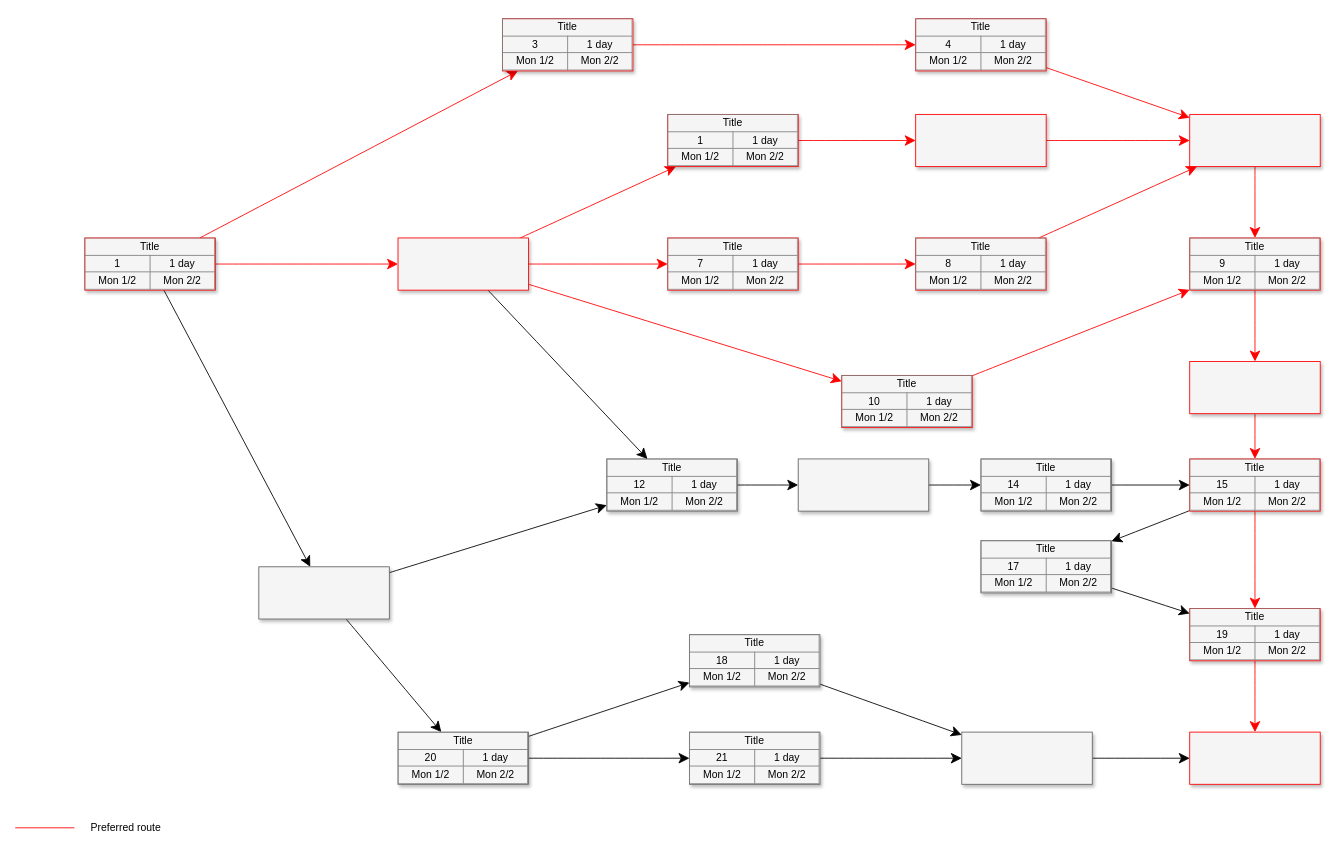
This 1341x858 diagram has some shape labels left out. Each missing label, with the centre of its shape:
"Title 11 1 day Mon 1/2 Mon 2/2" belongs at (1255,388).
"Title 13 1 day Mon 1/2 Mon 2/2" belongs at (864,486).
"Title 16 1 day Mon 1/2 Mon 2/2" belongs at (324,593).
"Title 2 1 day Mon 1/2 Mon 2/2" belongs at (464,265).
"Title 22 1 day Mon 1/2 Mon 2/2" belongs at (1027,759).
"Title 23 1 day Mon 1/2 Mon 2/2" belongs at (1255,759).
"Title 5 1 day Mon 1/2 Mon 2/2" belongs at (981,141).
"Title 6 1 day Mon 1/2 Mon 2/2" belongs at (1255,141).
